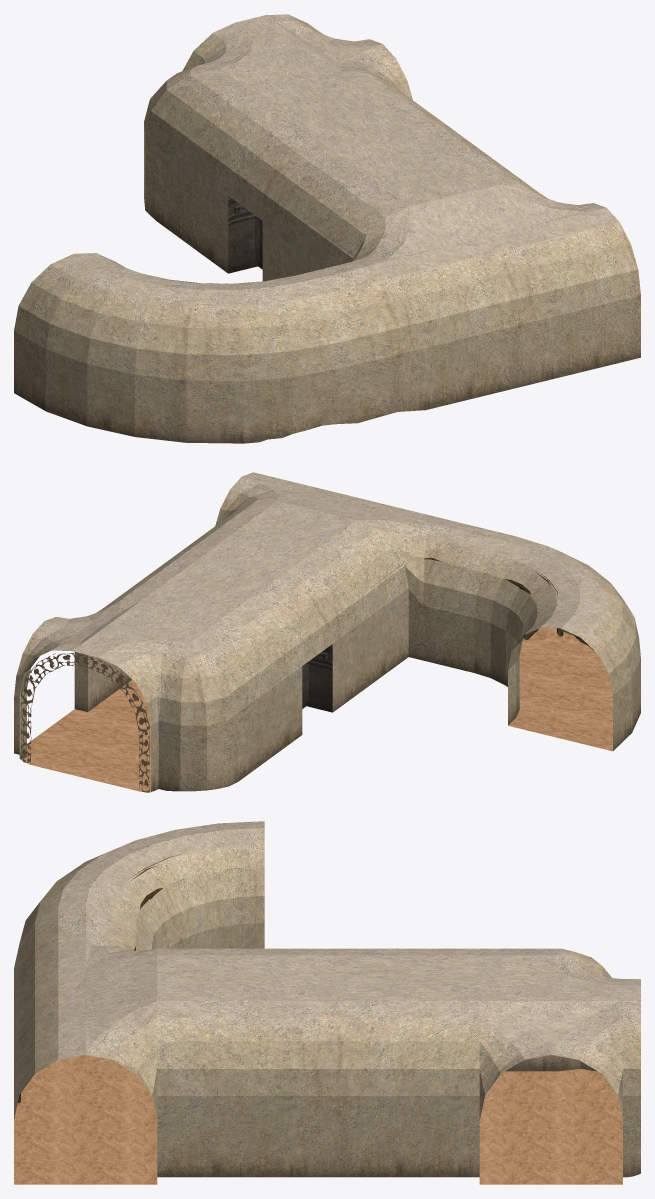
Rendered from thm_tato_jabbas_palace_r27_hall9_mesh_r27.fbx.
The picture shows the model from 3 angles, top to bottom: view 1: azimuth 30°, elevation 25°; view 2: azimuth 150°, elevation 25°; view 3: azimuth 270°, elevation 25°; orthographic projection. The views are drawn at different scales.
Parts seen in each view (by area): view 1: mesh_node; view 2: mesh_node; view 3: mesh_node.
Boxes of the visible parts, bbox=[...] form: mesh_node: bbox=[14, 14, 640, 443]; mesh_node: bbox=[14, 472, 640, 792]; mesh_node: bbox=[14, 821, 640, 1184].
Bounding box in the file's own units: 17 × 4.51 × 17.5.
